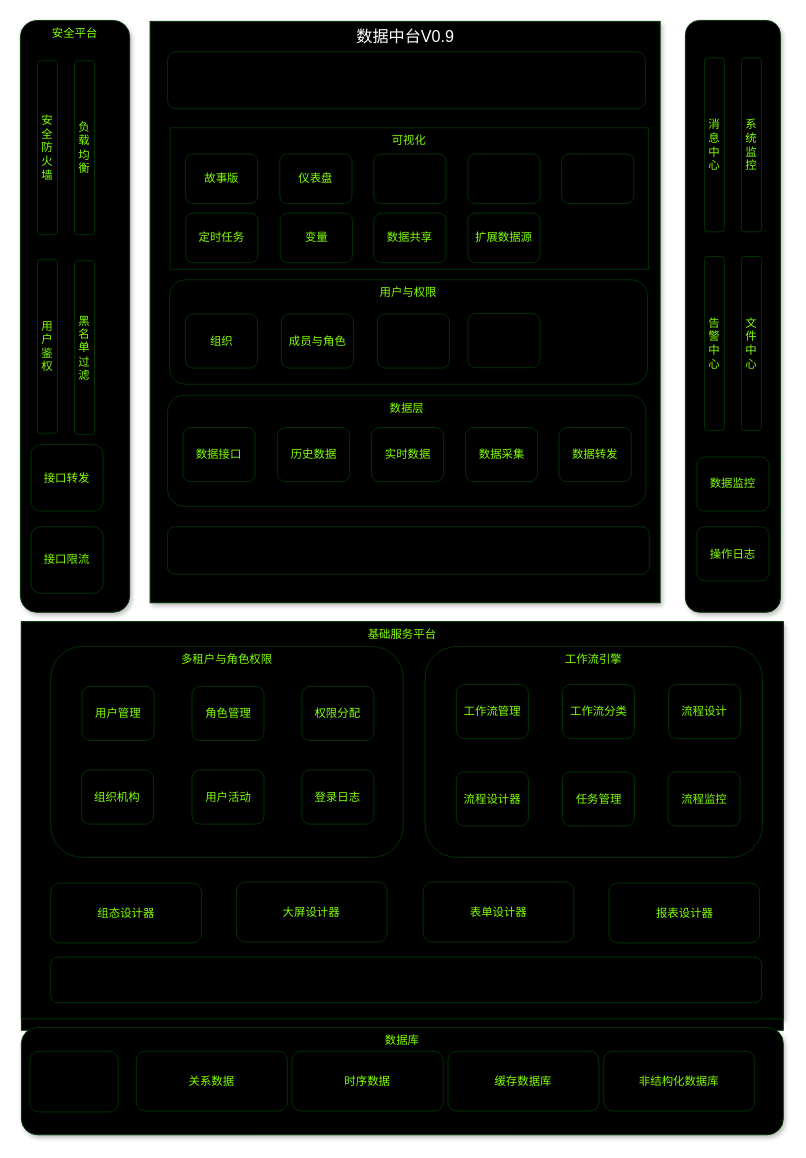
The diagram is 806 pixels wide and 1158 high, and some of its shapes have lost their labels. The centre of each missing label's shape, as x and y in pixels:
业务系统: (x=407, y=81)
大屏设计: (x=409, y=178)
存储策略: (x=73, y=1081)
审计: (x=503, y=340)
数据源: (x=503, y=178)
数据视图: (x=597, y=178)
权限: (x=412, y=340)
通用设计器: (x=406, y=980)
采集系统: (x=408, y=550)
